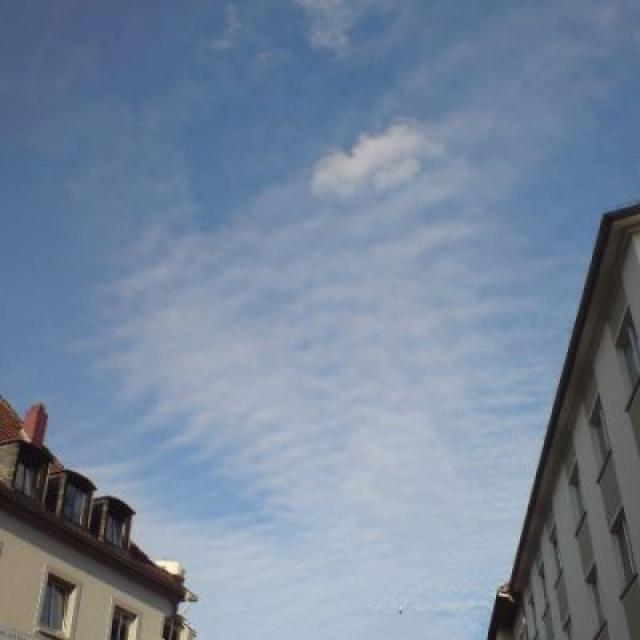Cc: (60, 122, 557, 482)
